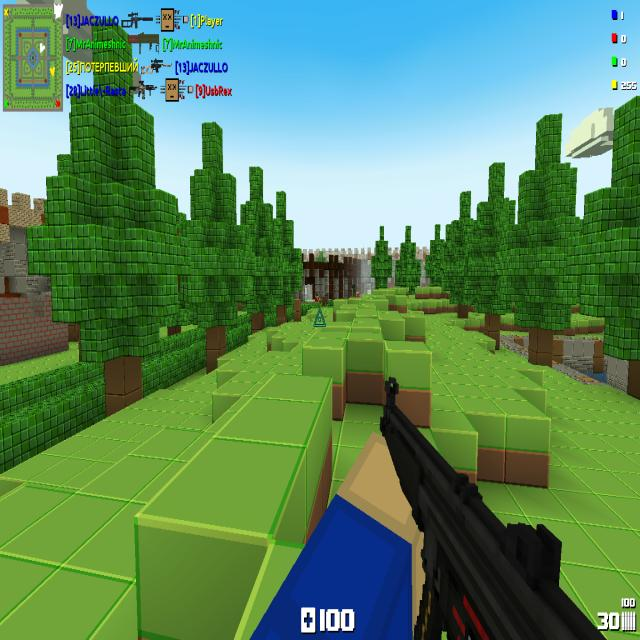enemy: (351, 283, 356, 296), (322, 296, 328, 306), (314, 293, 320, 302), (356, 290, 360, 298)
